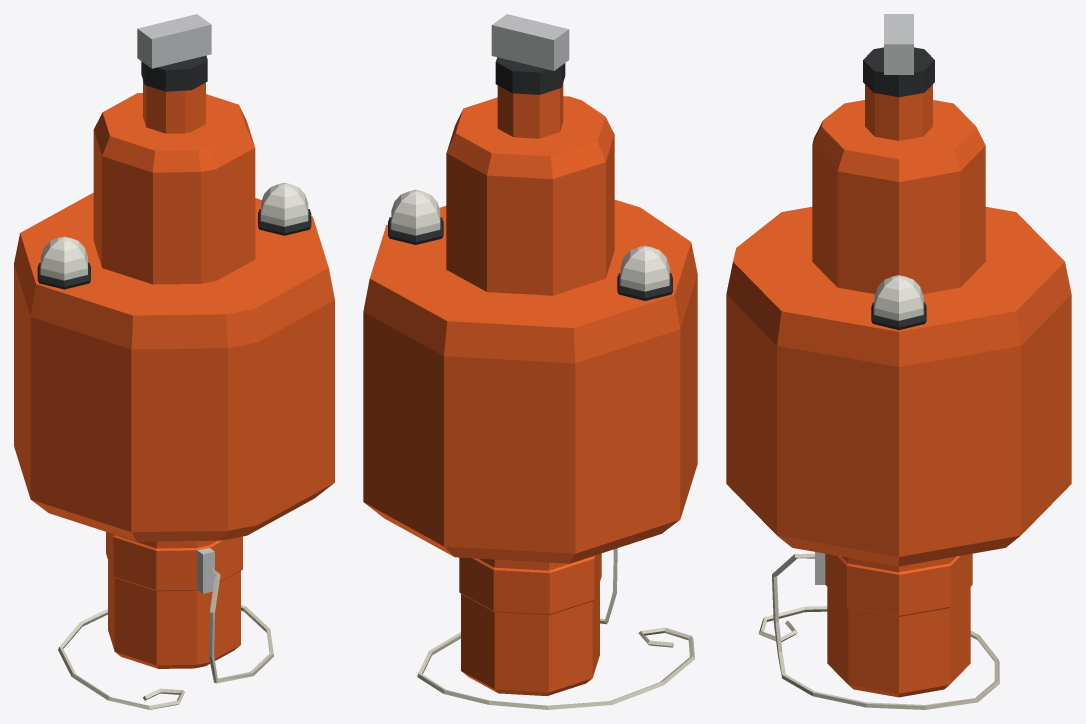
The picture shows the model from 3 angles, left to right: view 1: azimuth 30°, elevation 25°; view 2: azimuth 150°, elevation 25°; view 3: azimuth 270°, elevation 25°; orthographic projection. The views are drawn at different scales.
Parts seen in each view (by area): view 1: Main_body_neck_and_lower_shaft, Top_silver_plate_estimated_depth, Single_loose_connected_cord, Upper_dark_collar, Right_lamp_dome, Left_lamp_dome, Lower_front_cord_attachment, Right_lamp_seat, Left_lamp_seat; view 2: Main_body_neck_and_lower_shaft, Top_silver_plate_estimated_depth, Single_loose_connected_cord, Upper_dark_collar, Right_lamp_dome, Left_lamp_dome, Left_lamp_seat, Right_lamp_seat; view 3: Main_body_neck_and_lower_shaft, Single_loose_connected_cord, Upper_dark_collar, Right_lamp_dome, Top_silver_plate_estimated_depth, Right_lamp_seat.
Boxes of the visible parts, left/top/right/bottom form: Main_body_neck_and_lower_shaft: left=14, top=80, right=334, bottom=668; Top_silver_plate_estimated_depth: left=137, top=14, right=211, bottom=68; Single_loose_connected_cord: left=58, top=565, right=273, bottom=709; Upper_dark_collar: left=141, top=55, right=207, bottom=91; Right_lamp_dome: left=261, top=182, right=308, bottom=226; Left_lamp_dome: left=40, top=236, right=87, bottom=280; Lower_front_cord_attachment: left=197, top=548, right=214, bottom=593; Right_lamp_seat: left=258, top=209, right=311, bottom=235; Left_lamp_seat: left=37, top=262, right=90, bottom=289; Main_body_neck_and_lower_shaft: left=363, top=83, right=697, bottom=695; Top_silver_plate_estimated_depth: left=491, top=14, right=569, bottom=70; Single_loose_connected_cord: left=417, top=548, right=694, bottom=709; Upper_dark_collar: left=495, top=57, right=565, bottom=94; Right_lamp_dome: left=391, top=189, right=440, bottom=235; Left_lamp_dome: left=620, top=245, right=669, bottom=291; Left_lamp_seat: left=617, top=273, right=672, bottom=300; Right_lamp_seat: left=388, top=217, right=443, bottom=244; Main_body_neck_and_lower_shaft: left=726, top=84, right=1071, bottom=697; Single_loose_connected_cord: left=758, top=553, right=999, bottom=709; Upper_dark_collar: left=863, top=47, right=934, bottom=97; Right_lamp_dome: left=874, top=275, right=923, bottom=320; Top_silver_plate_estimated_depth: left=884, top=14, right=913, bottom=74; Right_lamp_seat: left=871, top=302, right=926, bottom=329.
Size of the model in its own units: 0.183 by 0.375 by 0.183.
